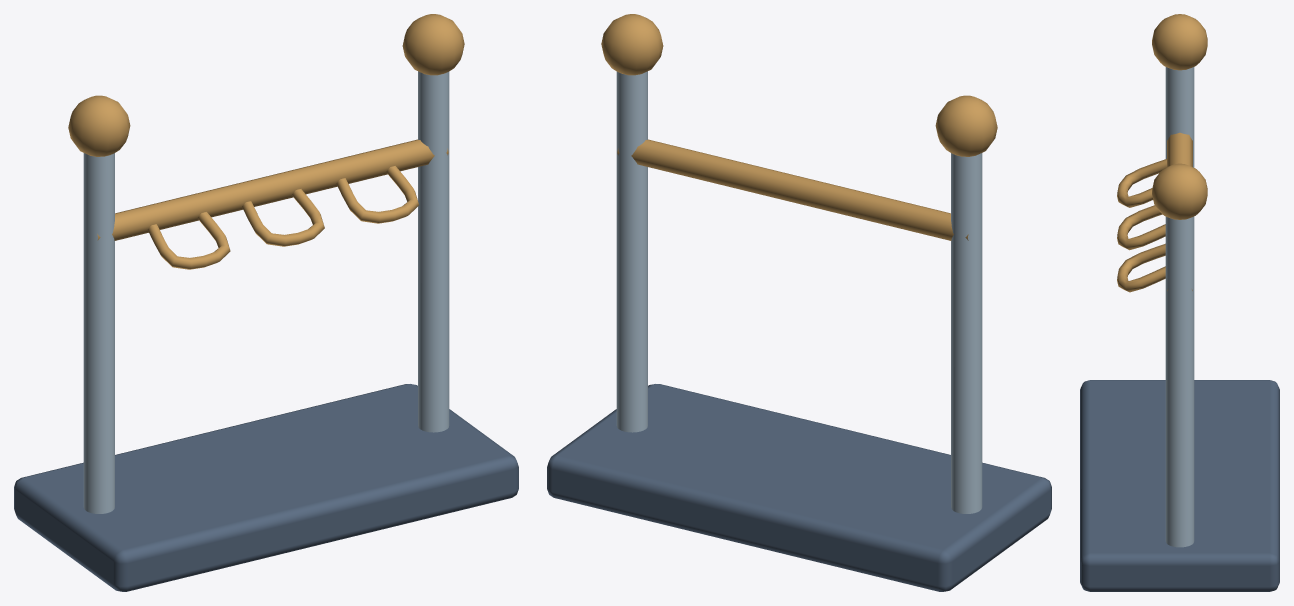
File: moonsteel-convergence-armory-weapon-rack-04a757b0__18211.glb
The picture shows the model from 3 angles, left to right: view 1: azimuth 30°, elevation 25°; view 2: azimuth 150°, elevation 25°; view 3: azimuth 270°, elevation 25°; orthographic projection. The views are drawn at different scales.
Visible parts, largest first — view 1: armory-weapon-rack; view 2: armory-weapon-rack; view 3: armory-weapon-rack.
Part boxes in pixels (x1,y1,x2,y2): armory-weapon-rack: [14, 14, 518, 591]; armory-weapon-rack: [547, 14, 1051, 591]; armory-weapon-rack: [1080, 14, 1279, 591].
Bounding box in the file's own units: 1.5 × 1.6 × 0.6999.
